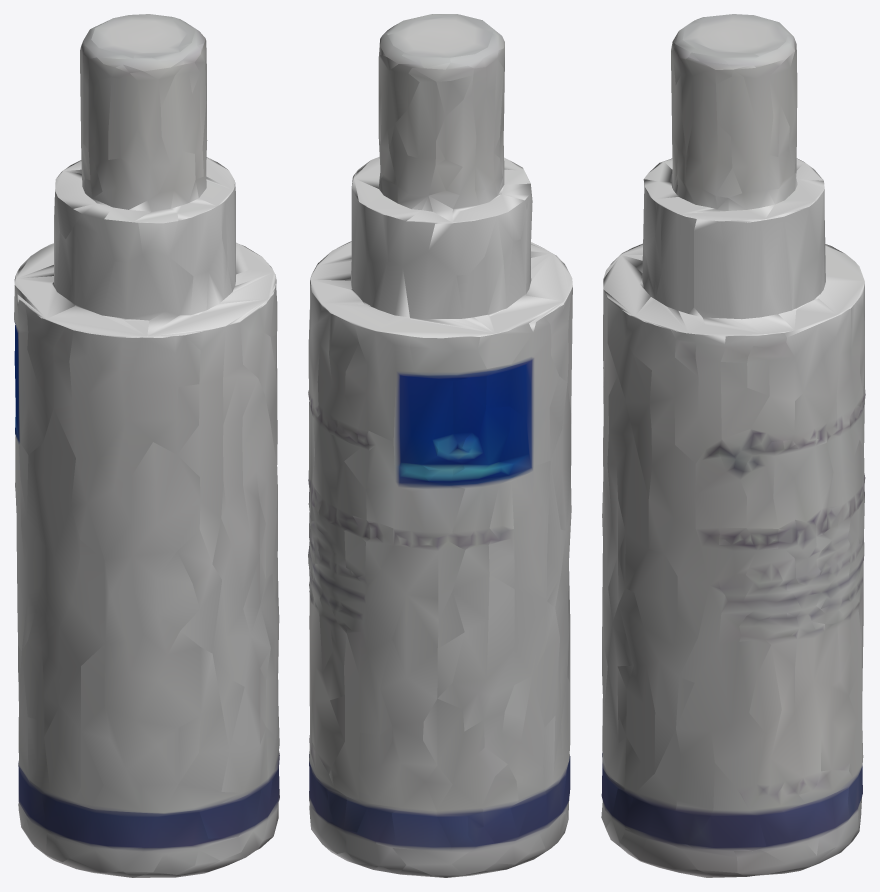
File: 0012_mask_013_spray_bottle.glb
The picture shows the model from 3 angles, left to right: view 1: azimuth 30°, elevation 25°; view 2: azimuth 150°, elevation 25°; view 3: azimuth 270°, elevation 25°; orthographic projection.
Parts seen in each view (by area): view 1: mask_013_object; view 2: mask_013_object; view 3: mask_013_object.
Boxes of the visible parts, x1,y1,x2,y2 form: mask_013_object: (14,14,279,877); mask_013_object: (308,14,572,877); mask_013_object: (601,14,865,877).
Bounding box in the file's own units: 0.0701 × 0.231 × 0.0698.
